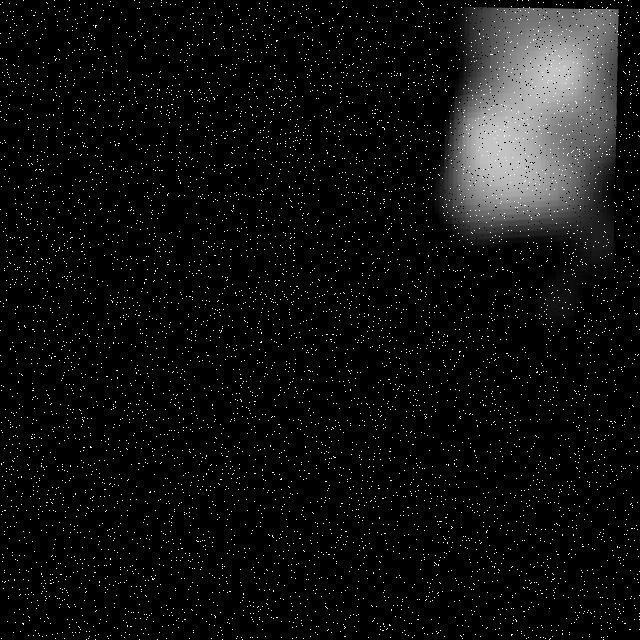person: (413, 6, 640, 365)
